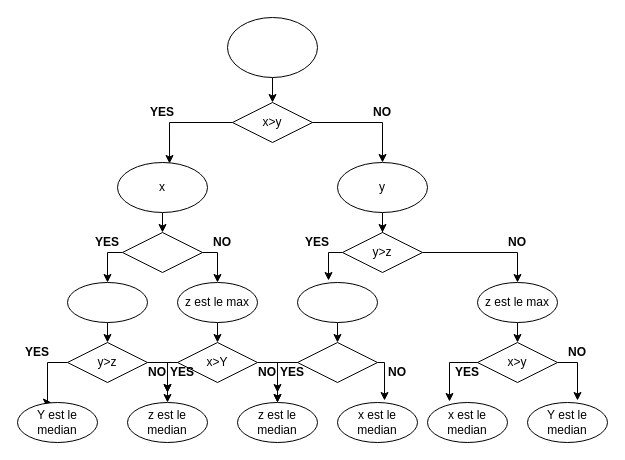
The diagram is 625 pixels wide and 460 high, and some of its shapes have lost their labels. Here are the shapes that lost their labels. From the top down, the centre of each, then its label:
At (x=272, y=47): "definir trois valeurs x,y,z".
At (x=162, y=252): "x>z".
At (x=107, y=302): "x est le max".
At (x=337, y=302): "y est le max".
At (x=337, y=362): "z>x".
